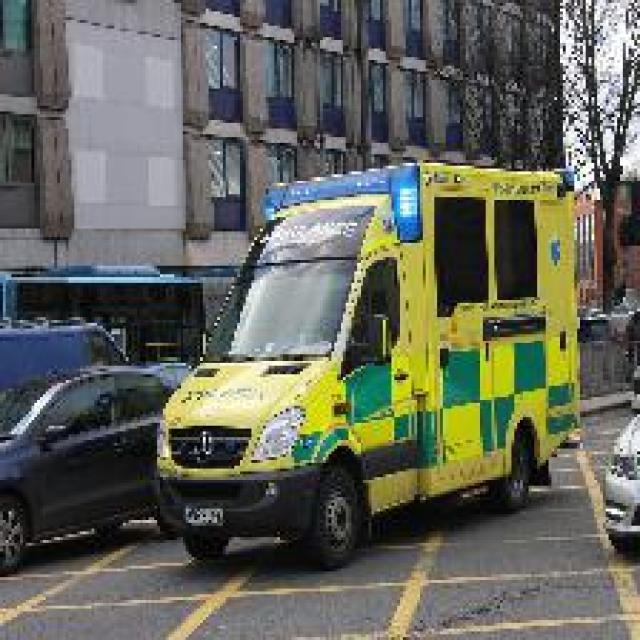emergency: (152, 160, 584, 572)
